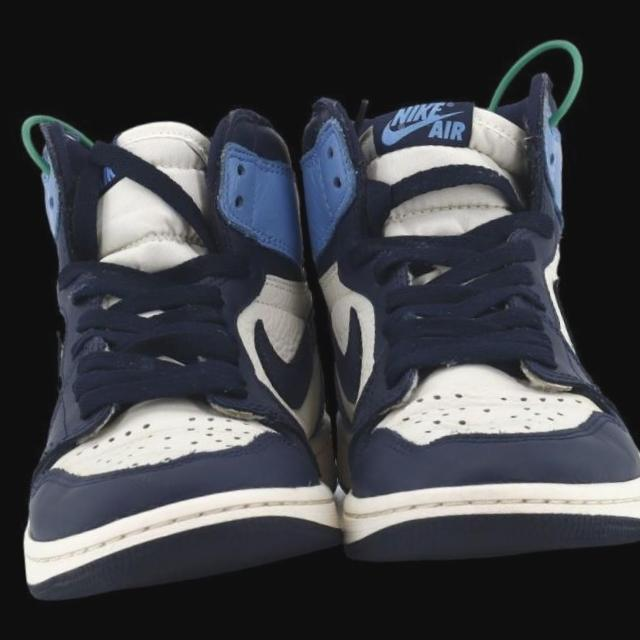nike_original_jordan: (0, 63, 348, 600), (289, 57, 640, 581)
